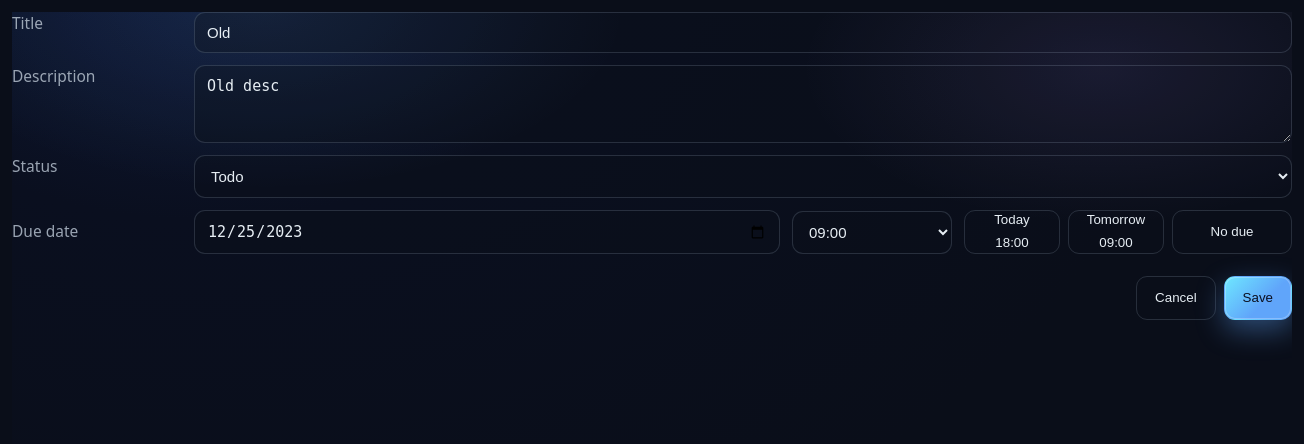
Test: EditTaskForm › blocks submit and shows errors on invalid data
Click the button "Save" at (1258, 298), box [1224,276,1292,320]
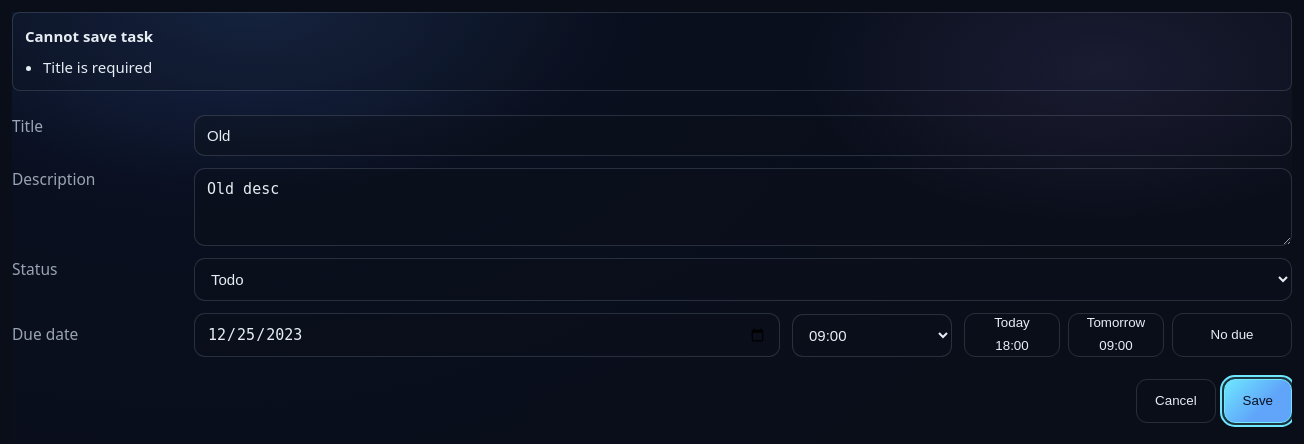
Now the list item "Title is required" is shown, box [43,56,152,76]
